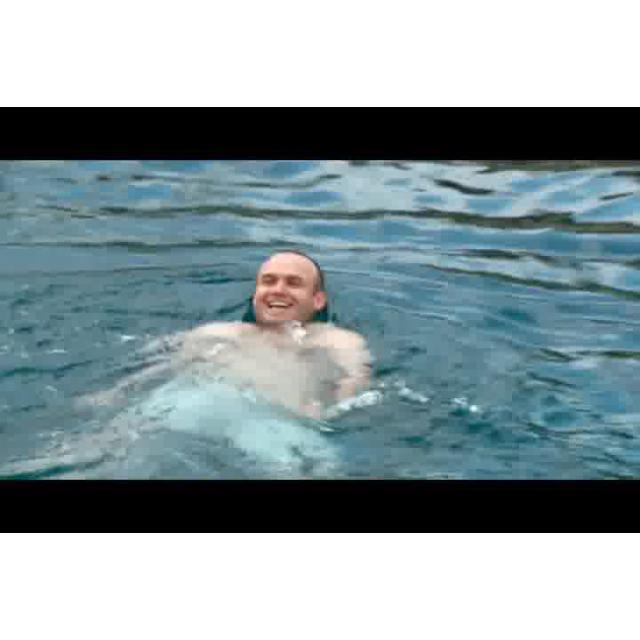human: (176, 253, 369, 417)
